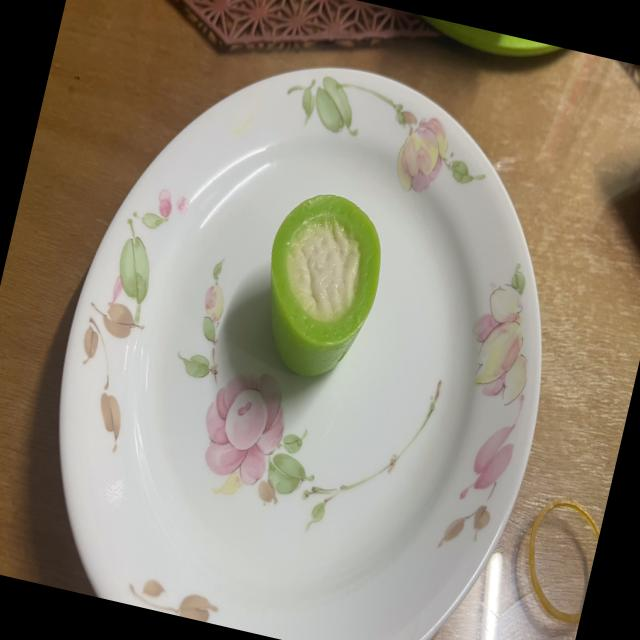nona-manis: (270, 194, 380, 376)
